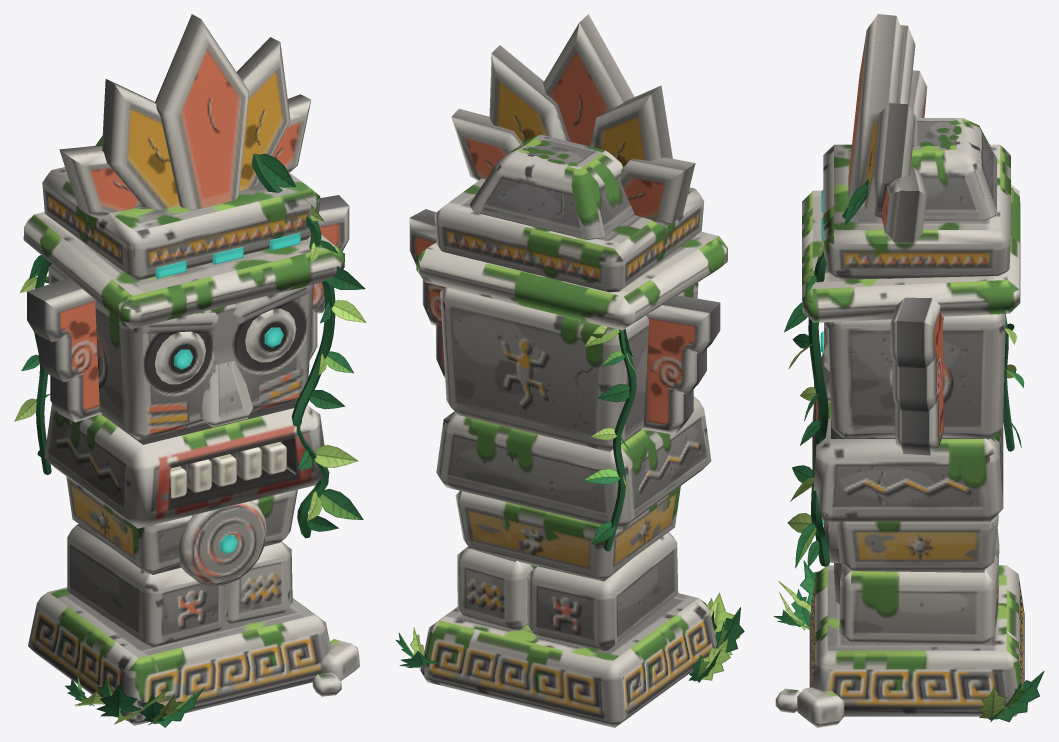
File: gate_totem_a.glb
3 views of the same model, side by side, from view 1: azimuth 30°, elevation 25°; view 2: azimuth 150°, elevation 25°; view 3: azimuth 270°, elevation 25° (orthographic). The views are drawn at different scales.
Parts seen in each view (by area): view 1: gate_totem_a, gate_totem_a_glow; view 2: gate_totem_a; view 3: gate_totem_a.
Boxes of the visible parts, x1,y1,x2,y2 form: gate_totem_a: (14, 14, 366, 727); gate_totem_a_glow: (155, 233, 300, 554); gate_totem_a: (395, 14, 744, 727); gate_totem_a: (773, 14, 1044, 727).
Size of the model in its own units: 5.73 by 11.66 by 4.37.
2 materials, 2 textured.
